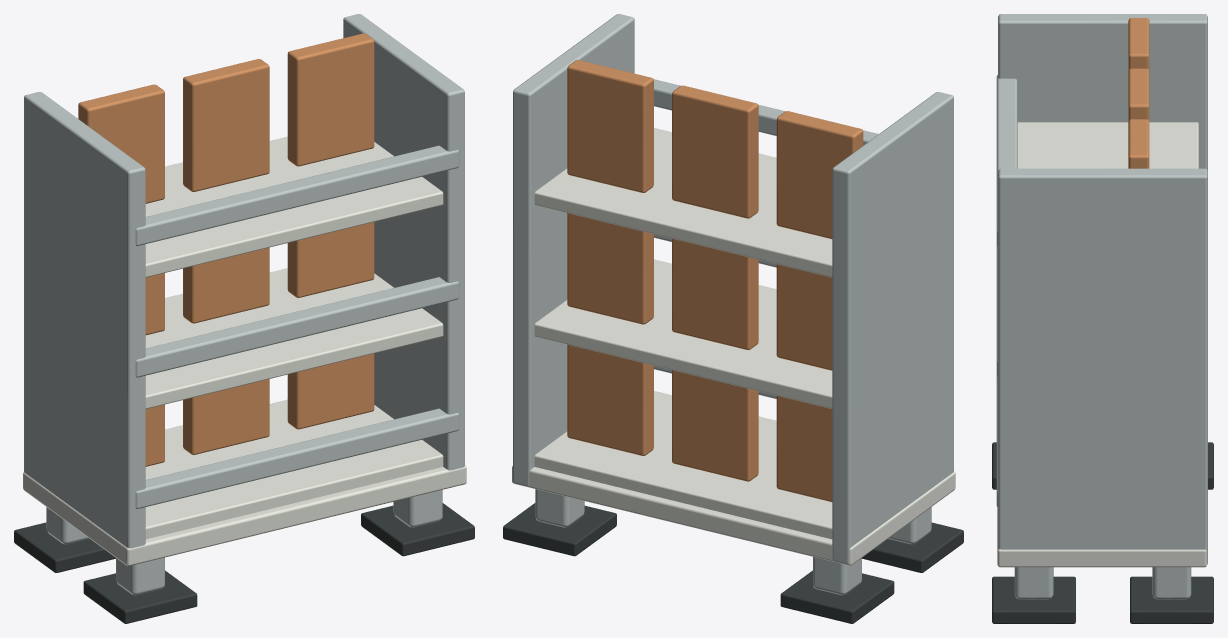
The model's file is generation-ship-hydroponics-generation-ship-hydroponic-3d38bcc4__31501.glb.
3 views of the same model, side by side, from view 1: azimuth 30°, elevation 25°; view 2: azimuth 150°, elevation 25°; view 3: azimuth 270°, elevation 25° (orthographic).
Visible parts, largest first — view 1: generation-ship-hydroponics-seed-packet-rack; view 2: generation-ship-hydroponics-seed-packet-rack; view 3: generation-ship-hydroponics-seed-packet-rack.
Part boxes in pixels (x1,y1,x2,y2): generation-ship-hydroponics-seed-packet-rack: (14, 14, 474, 623); generation-ship-hydroponics-seed-packet-rack: (503, 14, 963, 623); generation-ship-hydroponics-seed-packet-rack: (992, 14, 1213, 623).
Size of the model in its own units: 0.67 by 0.835 by 0.37.
